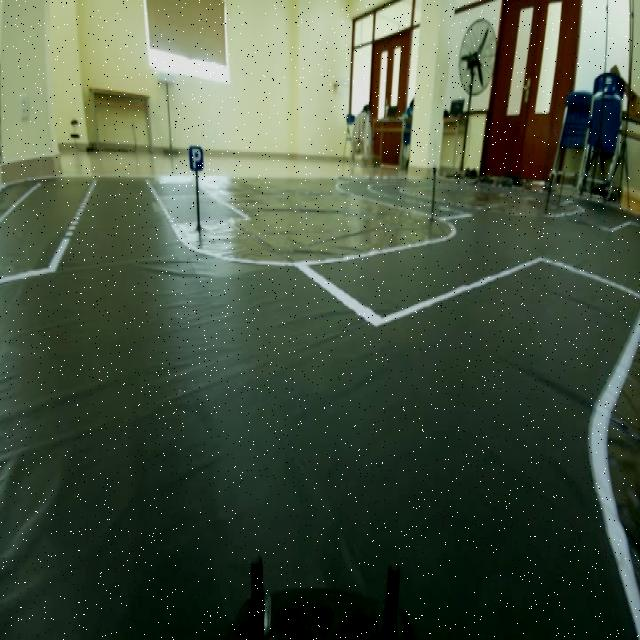parking: (184, 134, 210, 178)
